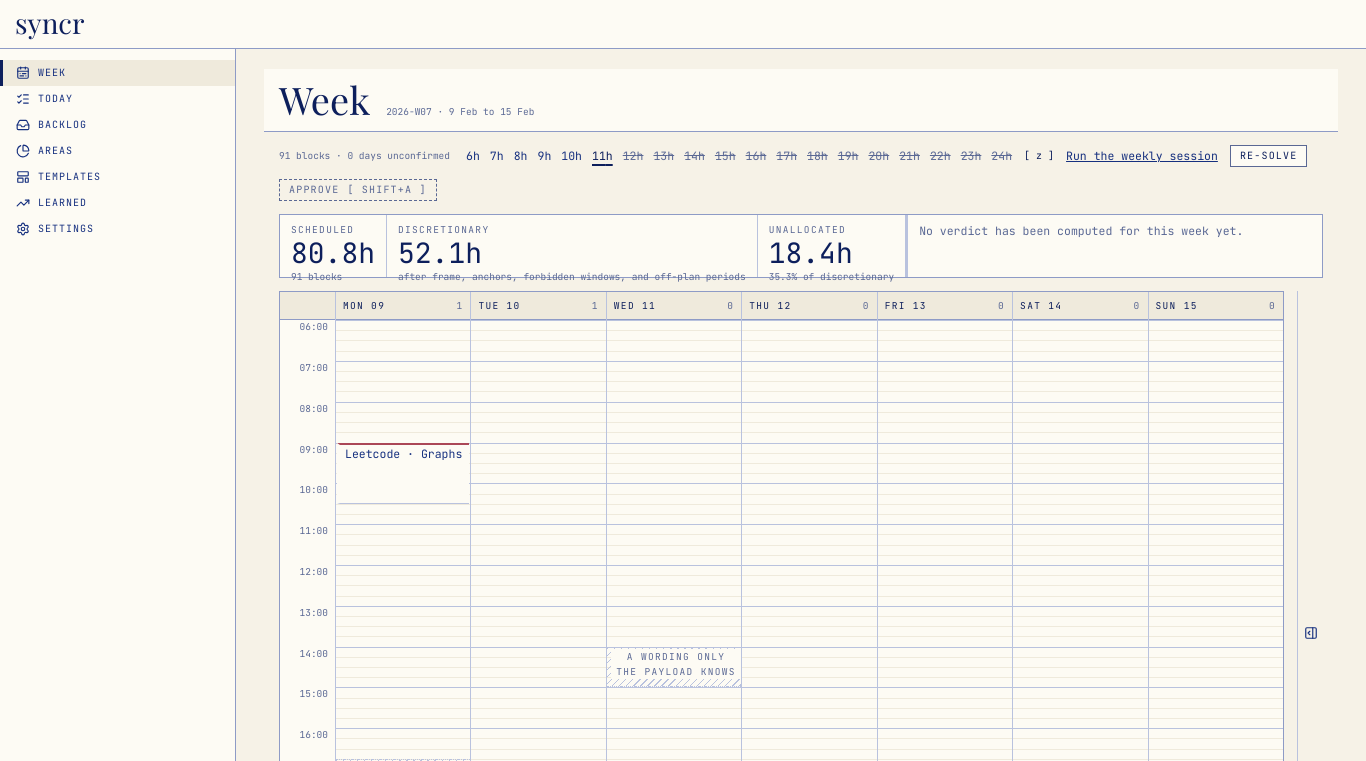
the drag is discrete › consumes the operation the response carries, so the currency says solving at once
This screenshot has width=1366, height=761.
Expected: the text "91 blocks" is shown, [291,270,342,283]
Press the mouse on the button "Leetcode · Graphs" at x=403, y=473, box [337,442,469,504]
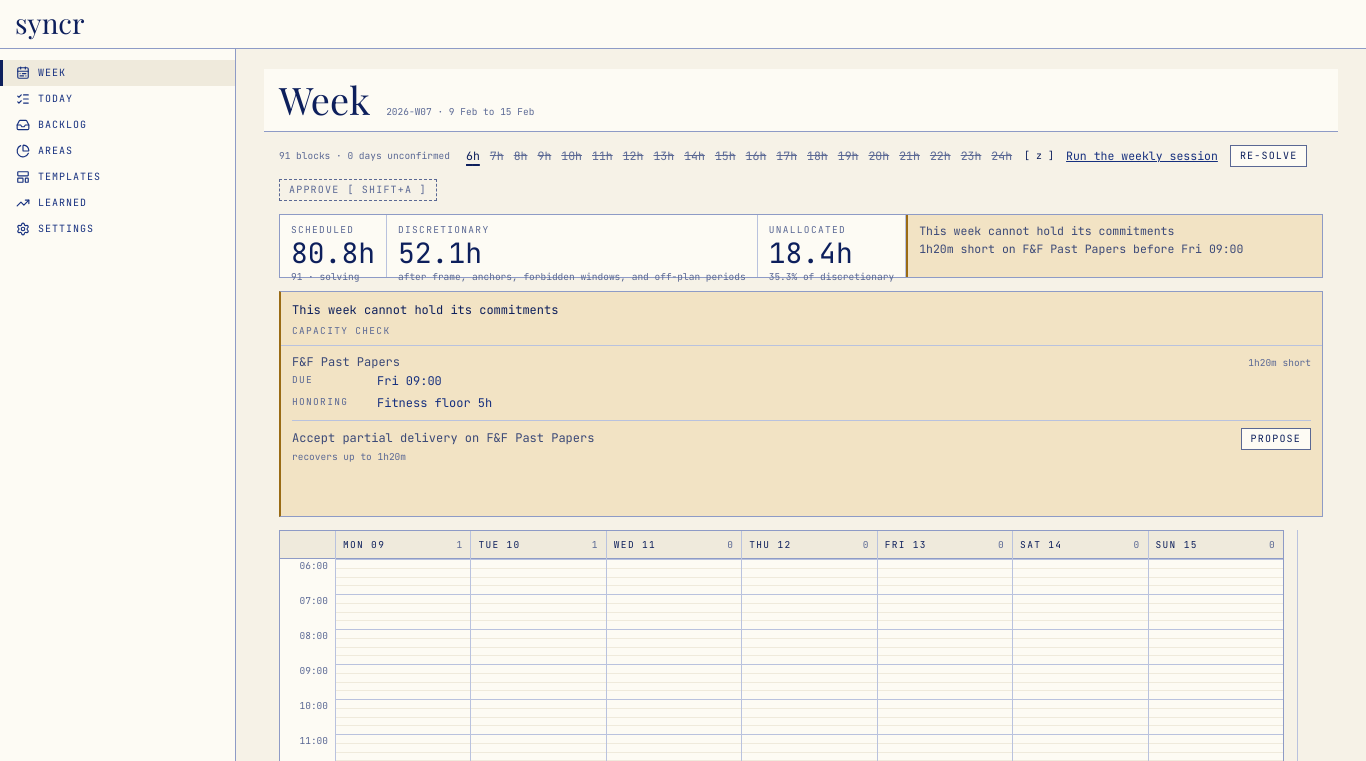
Expected: the text "91 · solving" is shown, [291,270,359,283]
